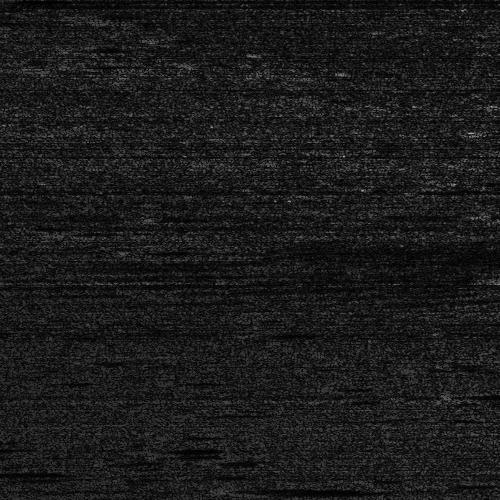object: (209, 485, 282, 494), (453, 387, 494, 398), (116, 447, 169, 452), (0, 468, 11, 473)
shadow: (246, 485, 360, 494), (0, 468, 81, 473), (143, 447, 205, 452), (474, 387, 500, 398)
